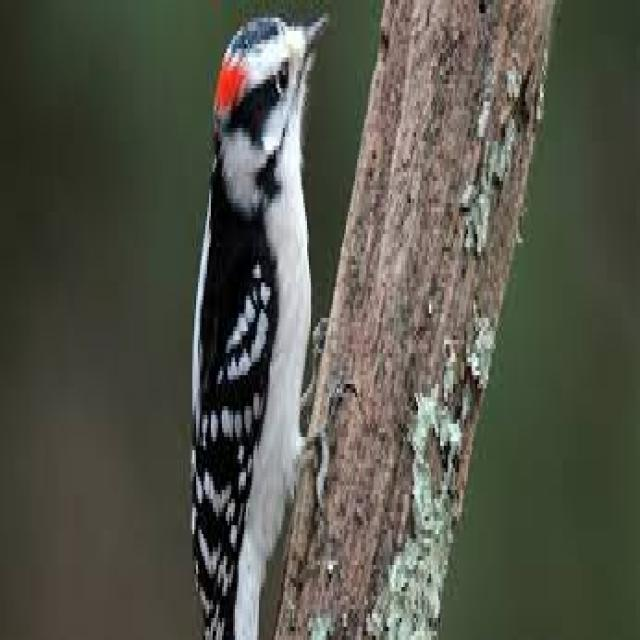Woodpecker: (191, 14, 331, 630)
